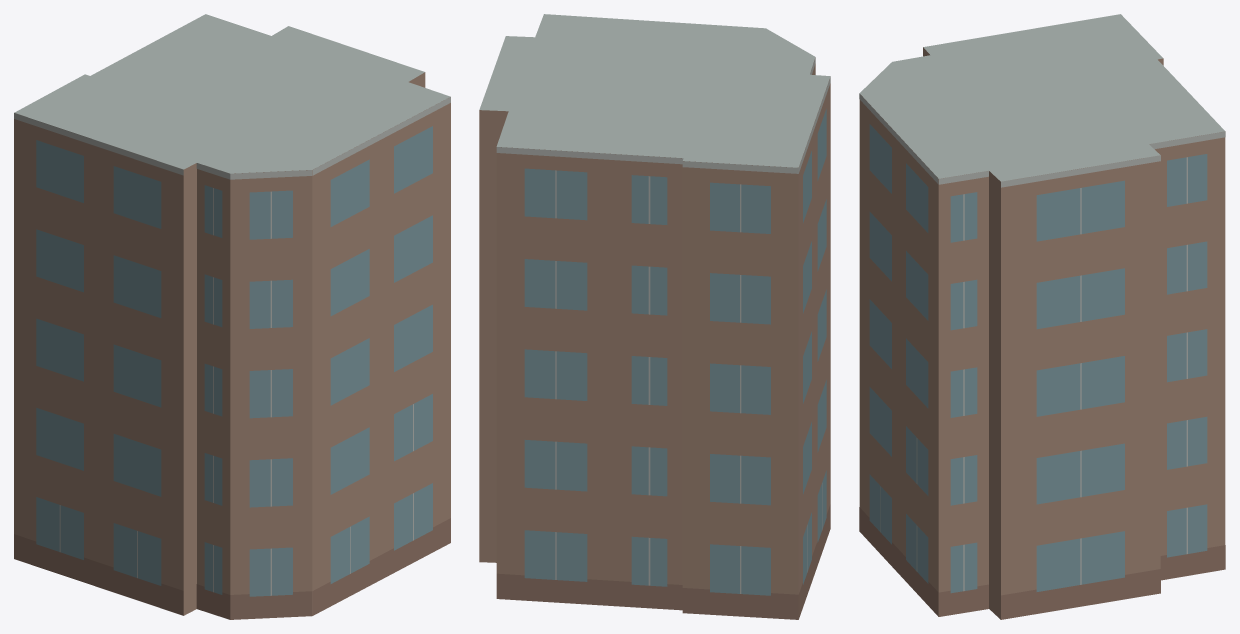
File: survey-upis-32886669.glb
The picture shows the model from 3 angles, left to right: view 1: azimuth 30°, elevation 25°; view 2: azimuth 150°, elevation 25°; view 3: azimuth 270°, elevation 25°; orthographic projection. The views are drawn at different scales.
Parts seen in each view (by area): view 1: survey-upis-32886669.tmp; view 2: survey-upis-32886669.tmp; view 3: survey-upis-32886669.tmp.
Part boxes in pixels (x1,y1,x2,y2): survey-upis-32886669.tmp: (14, 14, 450, 619); survey-upis-32886669.tmp: (479, 14, 830, 619); survey-upis-32886669.tmp: (859, 14, 1225, 619).
Bounding box in the file's own units: 14.79 × 18 × 13.64.
